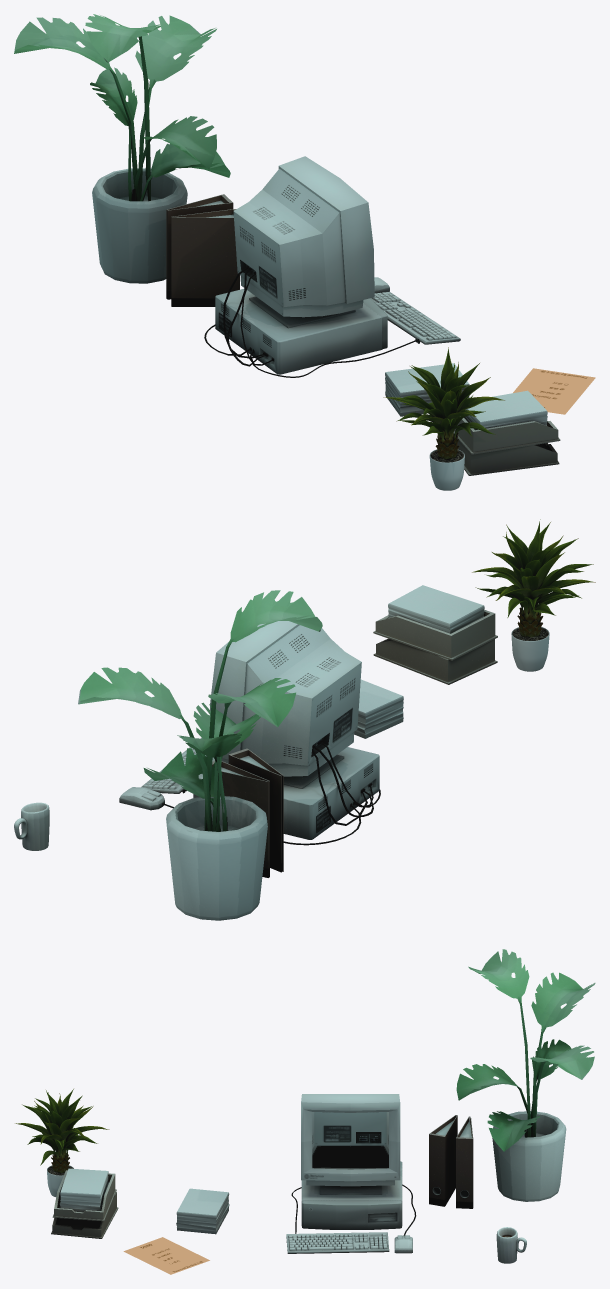
The model's file is scene_desk_obj.glb.
3 renders of one model, top to bottom at view 1: azimuth 30°, elevation 25°; view 2: azimuth 150°, elevation 25°; view 3: azimuth 270°, elevation 25°, orthographic. The views are drawn at different scales.
Visible parts, largest first — view 1: Cylinder003_1, computer, PlantAgave002, PlantAgave002_pot; view 2: Cylinder003_1, computer, PlantAgave002, Cylinder003, PlantAgave002_pot; view 3: Cylinder003_1, computer, PlantAgave002, Cylinder003.
Boxes of the visible parts, box(x1,y1,x2,y2) form: Cylinder003_1: box(14, 14, 595, 475); computer: box(204, 156, 460, 377); PlantAgave002: box(383, 347, 504, 460); PlantAgave002_pot: box(429, 449, 464, 490); Cylinder003_1: box(78, 585, 497, 920); computer: box(119, 621, 380, 845); PlantAgave002: box(472, 519, 595, 637); Cylinder003: box(14, 802, 49, 850); PlantAgave002_pot: box(511, 627, 549, 671); Cylinder003_1: box(51, 949, 595, 1274); computer: box(286, 1094, 416, 1253); PlantAgave002: box(15, 1089, 109, 1173); Cylinder003: box(496, 1227, 526, 1263).
Size of the model in its own units: 5.04 by 4.1 by 10.04.
Materials: 4 (4 with a texture image).
